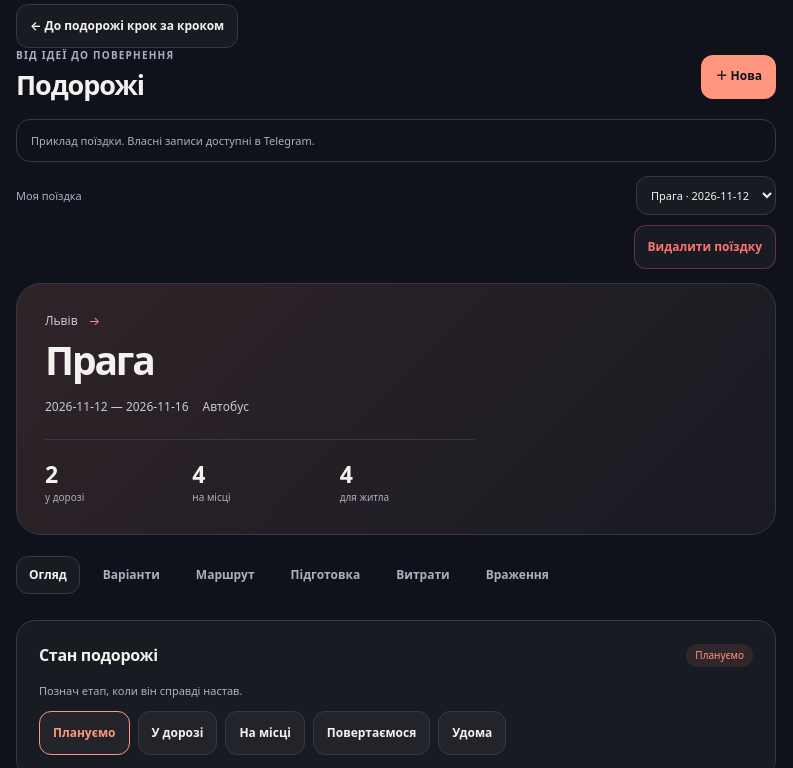
travel companion screen › shows a changed-price warning without marking the new offer as the previous owner choice
The image size is (793, 768).
Expected: the heading "Прага" is shown, [45,333,154,386]
Click the button "Варіанти".
click(131, 575)  # box [90,556,173,594]
(page scrolled)
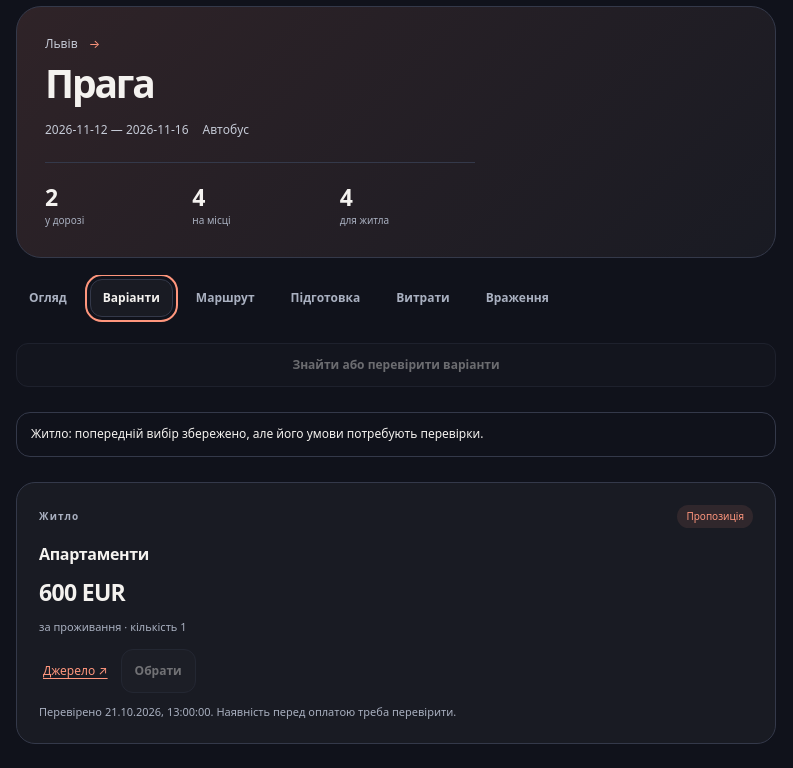
Expected: the text "попередній вибір збережено" is shown, [31,425,484,442]
Expected: the text "600 EUR" is shown, [39,576,125,608]
